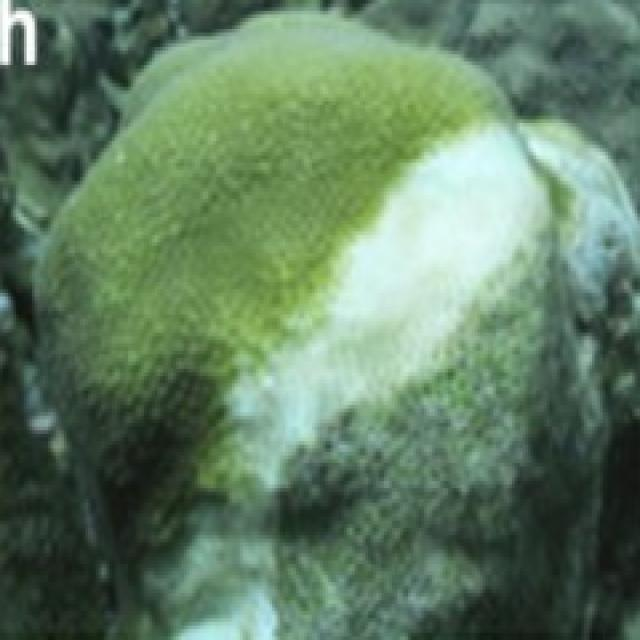Coral: (30, 8, 640, 640)
